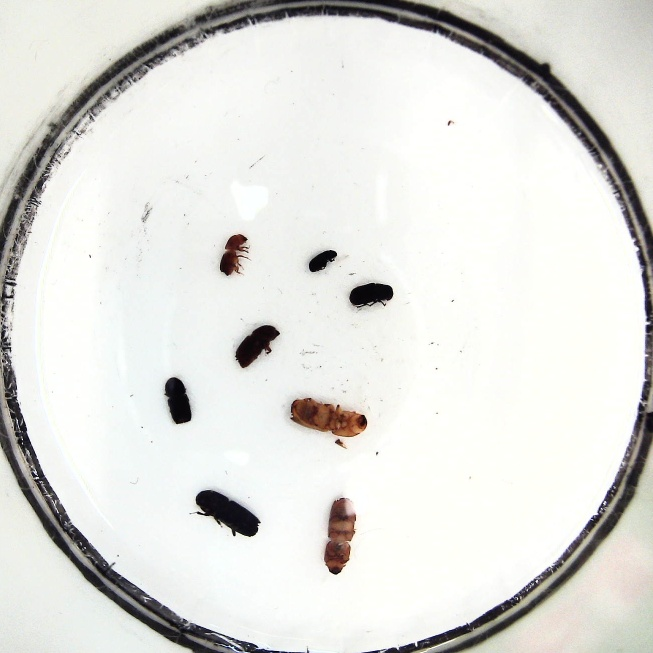acuminatus: (215, 232, 249, 278)
armandi: (348, 280, 394, 310)
boerner: (288, 395, 367, 439), (195, 489, 261, 537), (320, 497, 357, 576)
coleoptera: (306, 249, 338, 276)
linnaeus: (234, 325, 281, 369), (163, 376, 193, 426)
